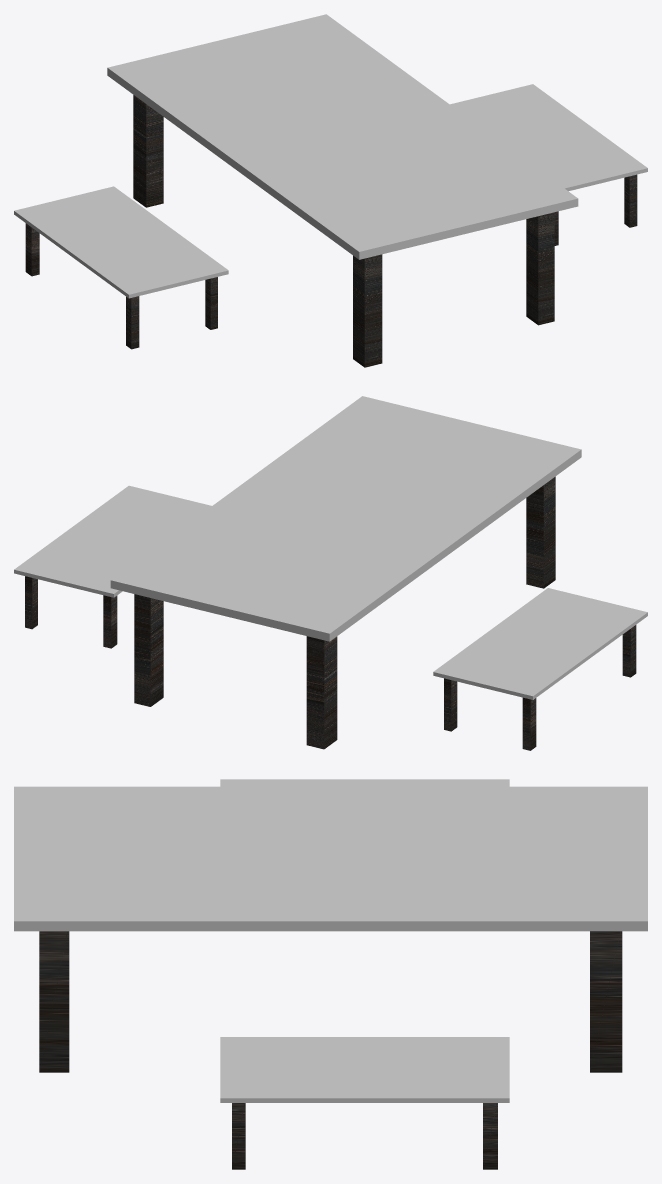
File: MesaRefeitorioRE1.fbx
3 renders of one model, top to bottom at view 1: azimuth 30°, elevation 25°; view 2: azimuth 150°, elevation 25°; view 3: azimuth 270°, elevation 25°, orthographic. The views are drawn at different scales.
Visible parts, largest first — view 1: M1, C1, C2; view 2: M1, C1, C2; view 3: M1, C2, C1.
Part boxes in pixels (x1,y1,x2,y2): M1: [107, 14, 578, 367]; C1: [14, 186, 228, 349]; C2: [450, 84, 647, 245]; M1: [110, 396, 581, 749]; C1: [433, 588, 647, 750]; C2: [14, 485, 211, 648]; M1: [14, 786, 647, 1072]; C2: [220, 1037, 509, 1169]; C1: [220, 779, 509, 786].
Bounding box in the file's own units: 3.68 × 0.8612 × 3.09.
